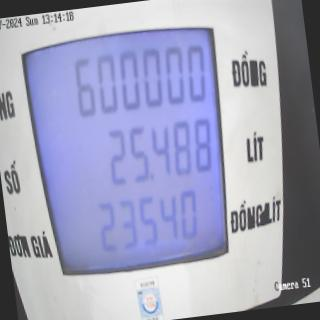screen: (14, 1, 248, 290)
